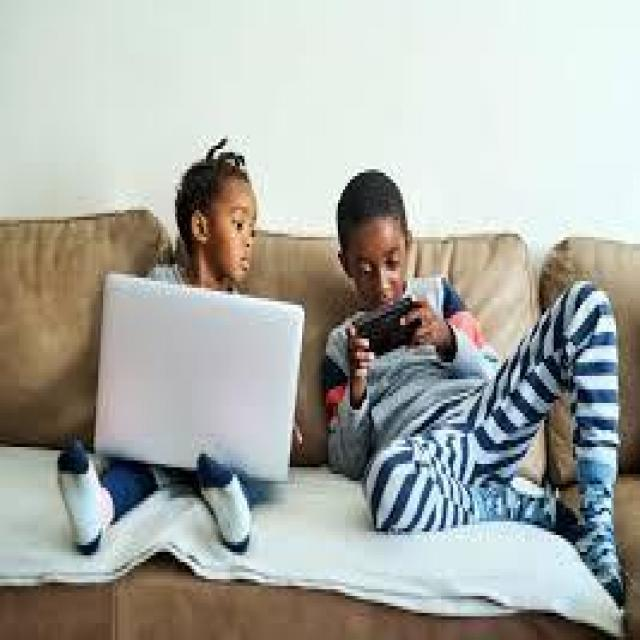person: (312, 135, 630, 603), (51, 91, 304, 603)
